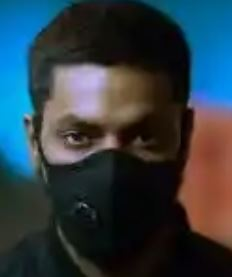with_facemask: (47, 152, 189, 246)
